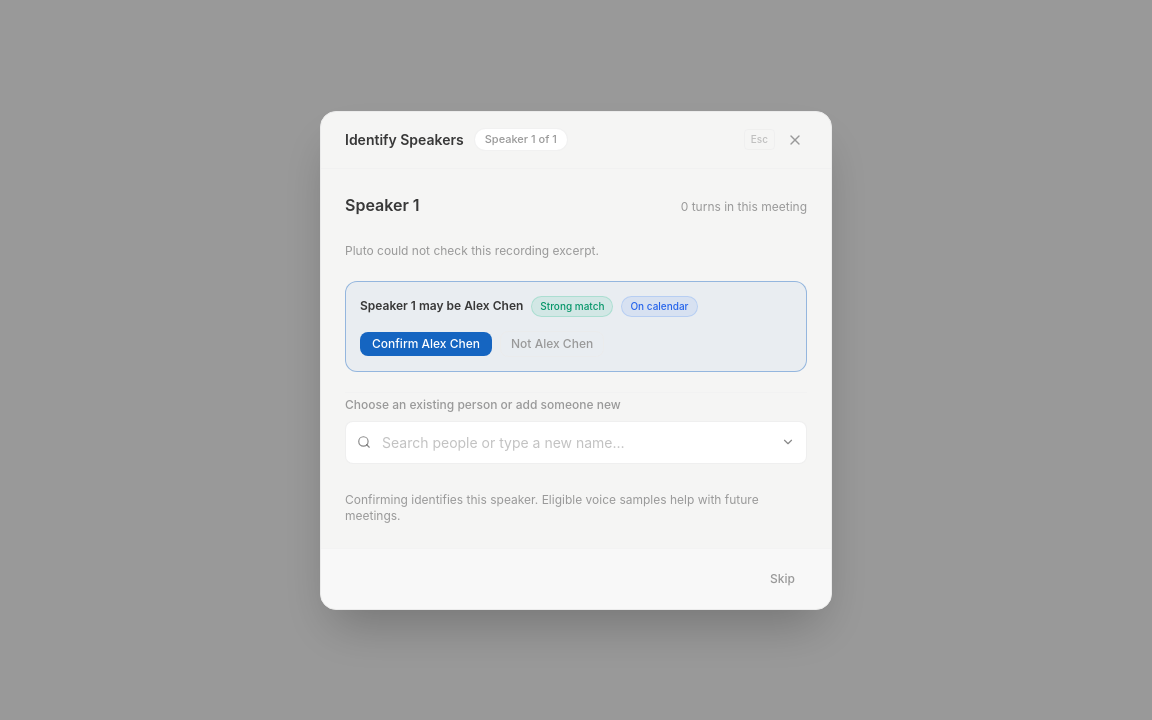
Scenario: SpeakerIdentificationModal voice profile suggestions and enrollment › persists identity and advances cleanly without noisy error when voice enrollment fails
Click the button "Confirm Alex Chen" at (426, 344), box [360,332,492,356]
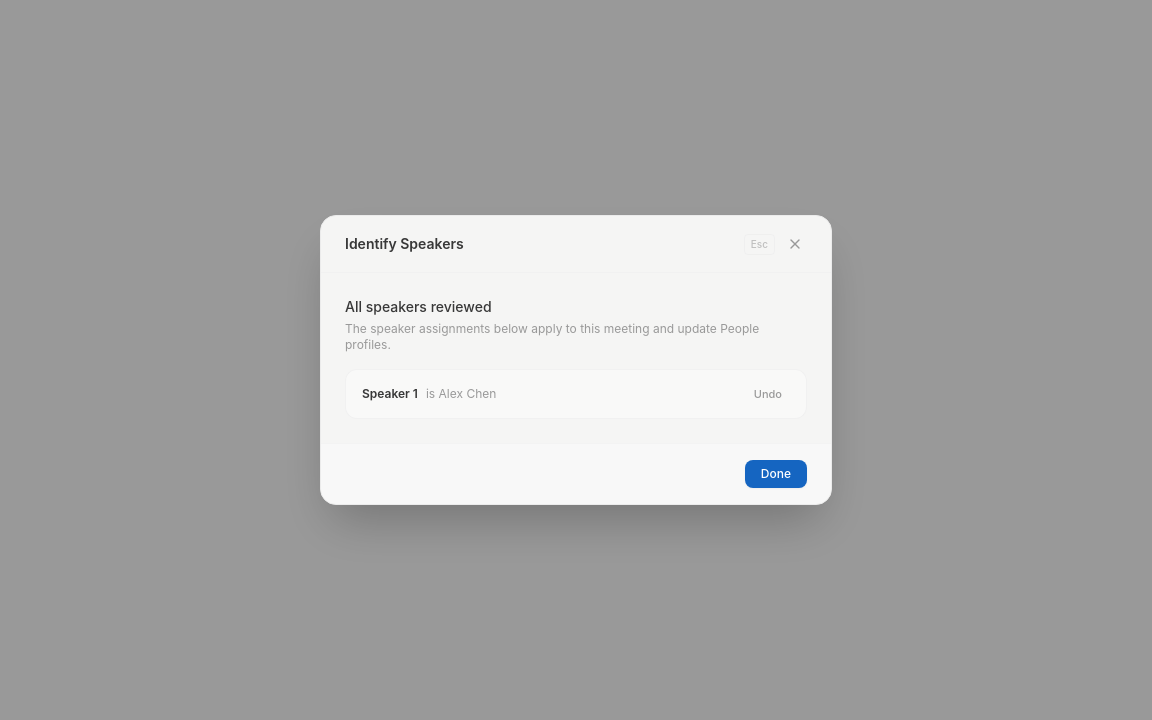
Result: the text "All speakers reviewed" is shown at [345,298,492,315]
Result: the text "is Alex Chen" is shown at [426,386,496,401]
